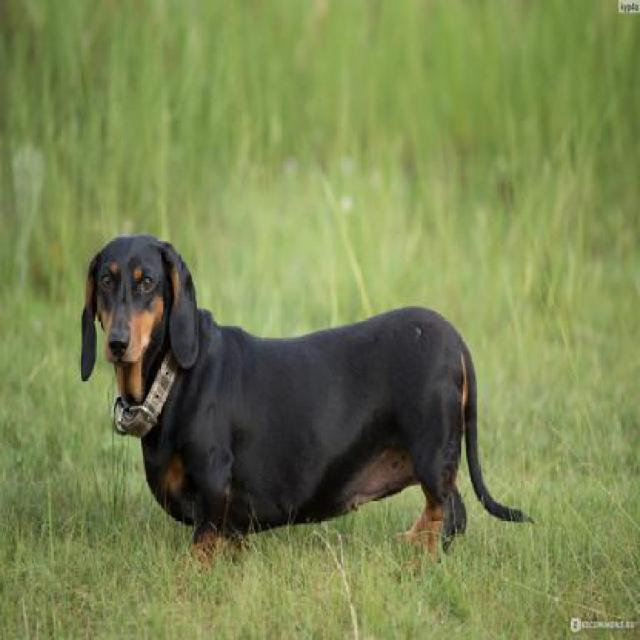Dog: (82, 228, 540, 564)
